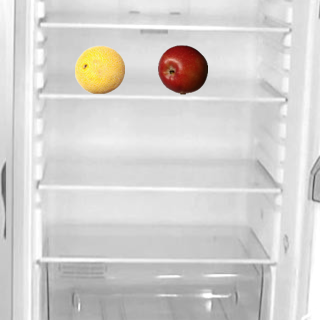Apple Braeburn: (157, 44, 207, 94)
Cantaloupe 1: (74, 44, 124, 94)
